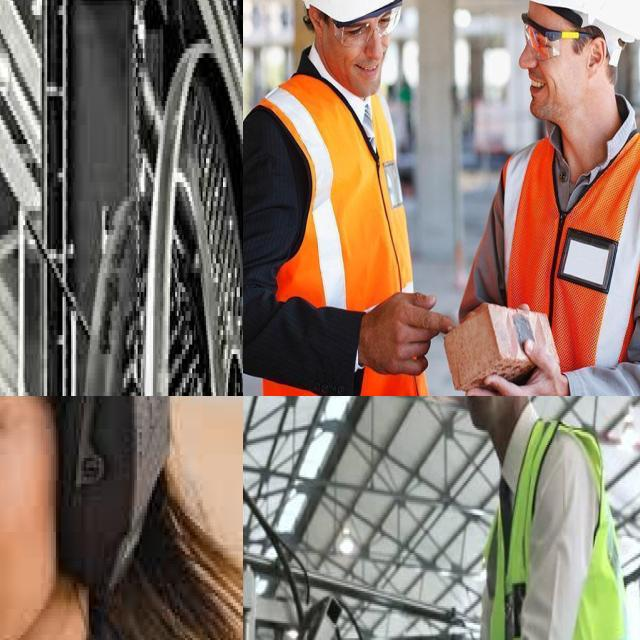Ear-protection: (0, 396, 195, 566)
No_Ear-Protection: (302, 0, 326, 46), (587, 26, 607, 81)
face_nomask: (514, 11, 594, 132), (326, 19, 401, 97), (454, 396, 510, 431)
glasses: (327, 0, 408, 51), (517, 8, 568, 63)
hand_noglove: (361, 288, 453, 385), (470, 342, 573, 396)
head_helmet: (507, 0, 640, 30)
person: (243, 0, 436, 396), (459, 0, 640, 396), (436, 396, 640, 640)
vest: (268, 78, 424, 396), (495, 125, 640, 396), (481, 424, 634, 640)
